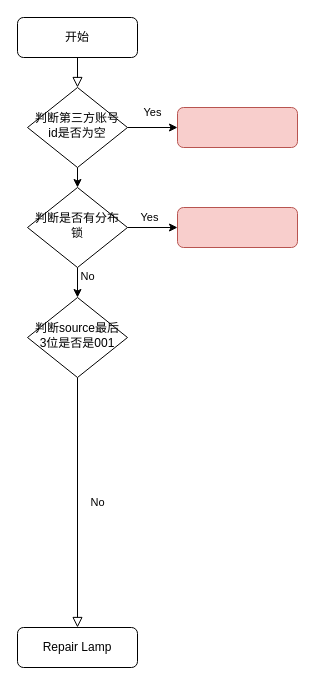
Image size: 315x685. Some labels were removed from this diagram. The shapes that lost their labels are listed below. From the top down, each one's centre as x and y in pixels, then its label:
At point 237,127: "报第三方账号为ID空退出".
At point 237,227: "会员注册正在处理中".
